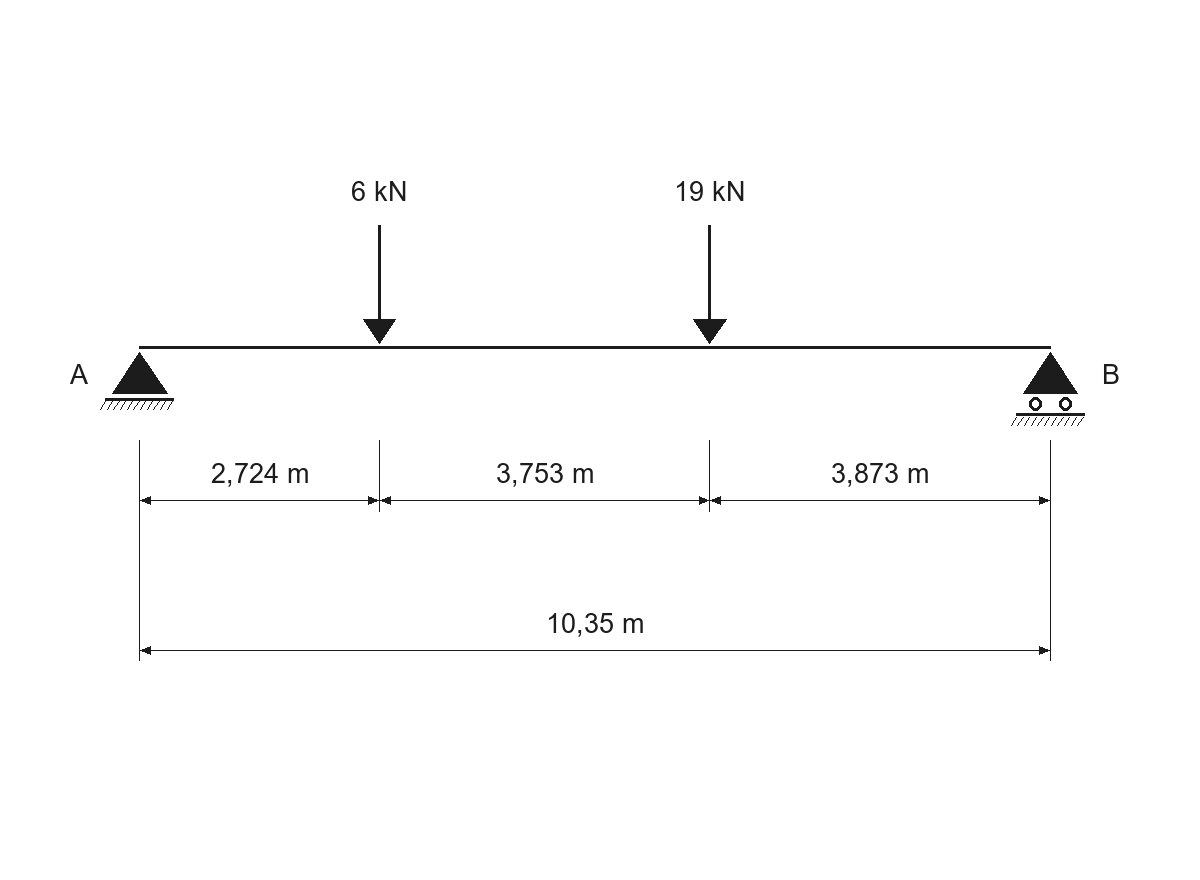pin_support: (100, 352, 174, 410)
point_load: (693, 225, 727, 344), (363, 225, 396, 344)
roller_support: (1011, 352, 1085, 426)
